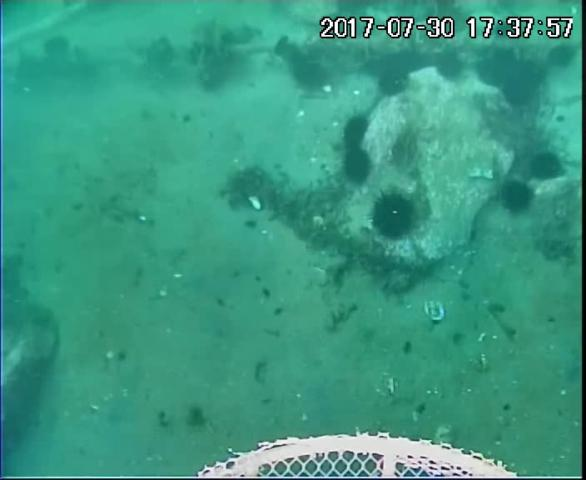echinus: (371, 194, 420, 241), (474, 50, 522, 89), (498, 176, 537, 219), (291, 57, 332, 96), (500, 71, 537, 109), (341, 152, 376, 190), (528, 148, 563, 185), (378, 63, 412, 97), (435, 51, 467, 84), (342, 114, 371, 150), (549, 41, 578, 73)
